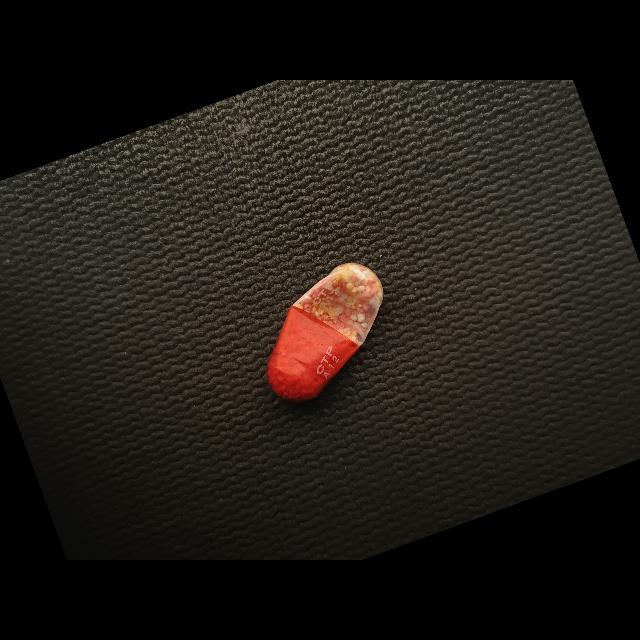Defective Capsule: (266, 263, 384, 402)
